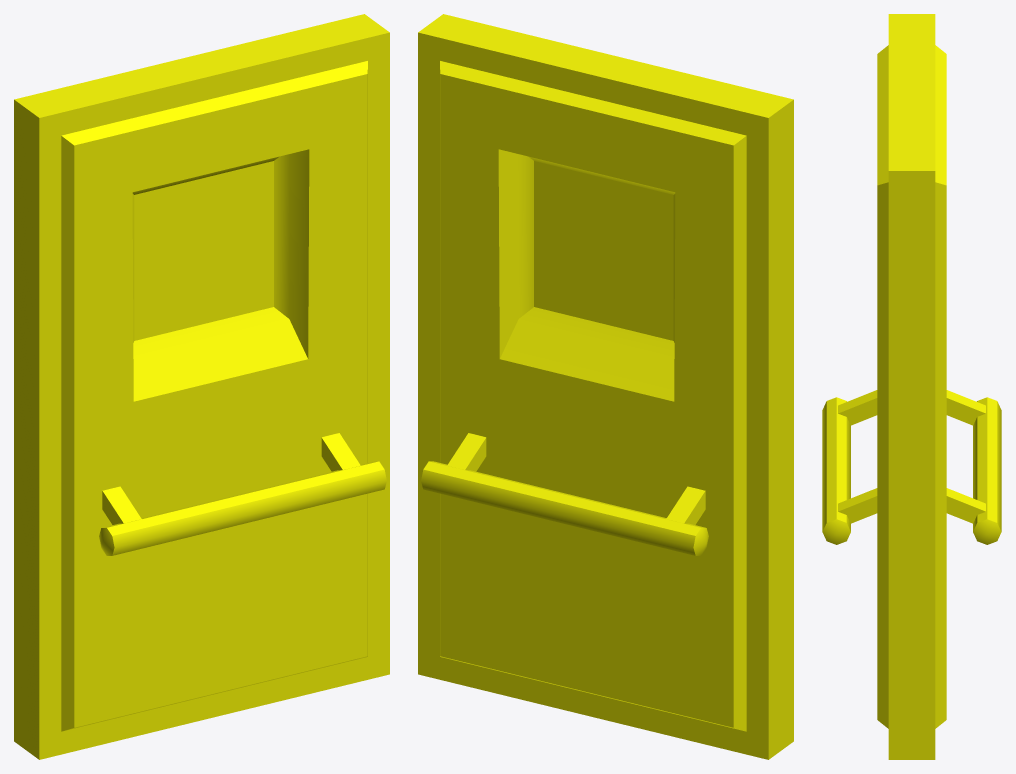
File: door_A.gltf
3 renders of one model, left to right at view 1: azimuth 30°, elevation 25°; view 2: azimuth 150°, elevation 25°; view 3: azimuth 270°, elevation 25°, orthographic. The views are drawn at different scales.
Parts seen in each view (by area): view 1: door_A; view 2: door_A; view 3: door_A.
Part boxes in pixels (bbox=[...]): door_A: bbox=[14, 14, 389, 759]; door_A: bbox=[418, 14, 793, 759]; door_A: bbox=[822, 14, 1001, 759].
Bounding box in the file's own units: 1.6 × 2.8 × 0.7714.
Materials: 1 (1 with a texture image).
